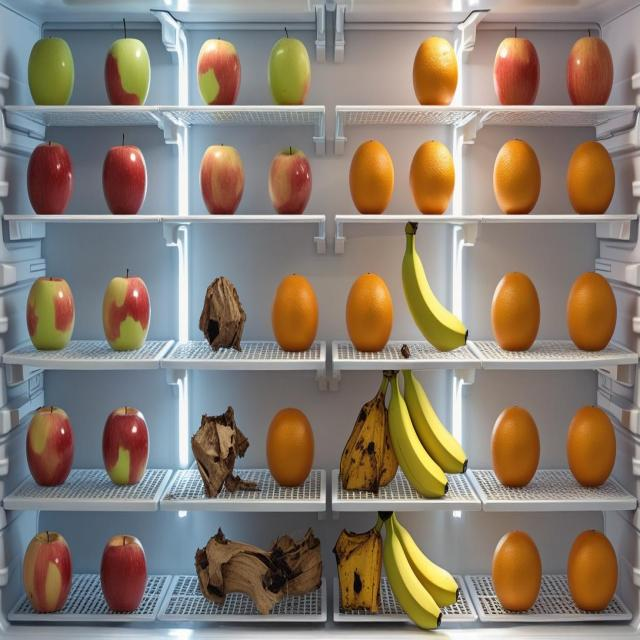apple: (23, 531, 71, 612), (26, 408, 73, 485), (103, 274, 150, 351), (102, 408, 148, 485), (101, 535, 147, 611), (27, 142, 73, 215), (27, 277, 73, 348), (102, 144, 147, 214), (200, 145, 244, 214), (105, 38, 150, 105), (494, 40, 540, 105), (29, 38, 73, 105), (567, 38, 611, 104), (197, 39, 240, 105), (270, 40, 310, 105), (270, 151, 310, 214)
banana: (340, 370, 467, 498), (334, 511, 459, 628), (402, 222, 467, 351)
orange: (491, 406, 540, 488), (566, 406, 616, 486), (566, 272, 617, 350), (567, 531, 617, 610), (491, 272, 540, 349), (492, 531, 540, 609), (272, 275, 318, 351), (347, 274, 393, 350), (493, 140, 540, 213), (567, 141, 614, 214), (268, 410, 313, 485), (493, 37, 540, 105), (413, 37, 459, 105), (567, 36, 613, 104), (350, 141, 393, 213), (410, 141, 453, 213)
